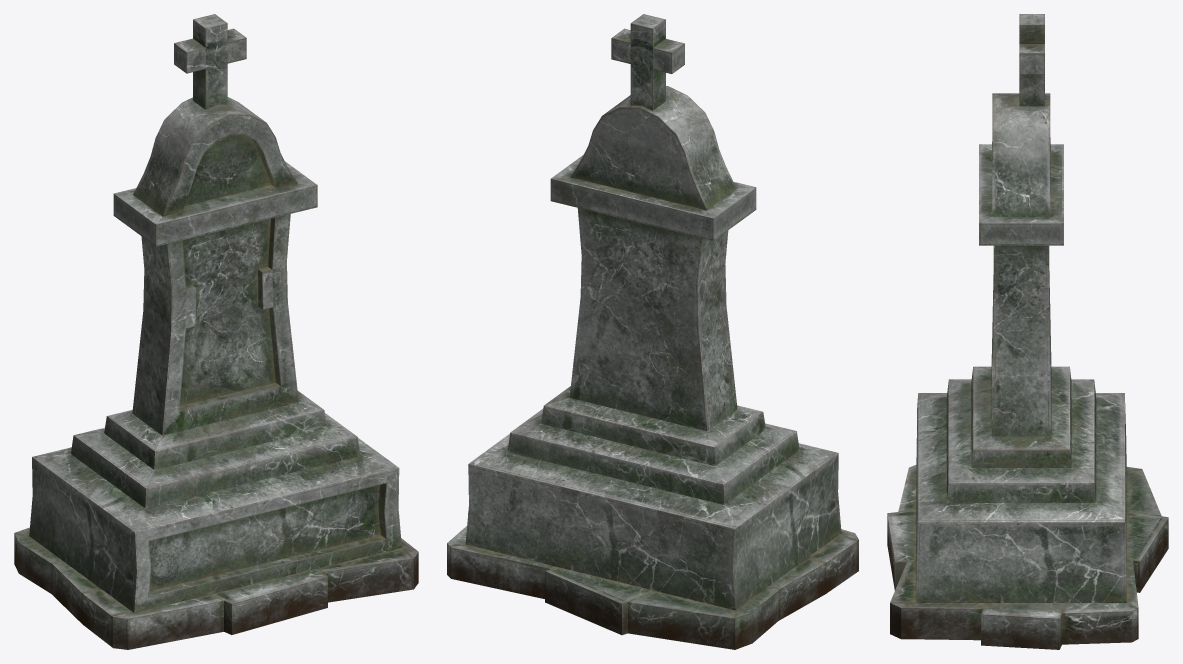
Rendered from grave.glb.
The picture shows the model from 3 angles, left to right: view 1: azimuth 30°, elevation 25°; view 2: azimuth 150°, elevation 25°; view 3: azimuth 270°, elevation 25°; orthographic projection.
Visible parts, largest first — view 1: tombstone_low; view 2: tombstone_low; view 3: tombstone_low.
Part boxes in pixels (x1,y1,x2,y2): tombstone_low: [14, 14, 418, 649]; tombstone_low: [447, 14, 858, 649]; tombstone_low: [887, 14, 1168, 649].
Bounding box in the file's own units: 98.74 × 163 × 75.47.
Materials: 1 (1 with a texture image).
